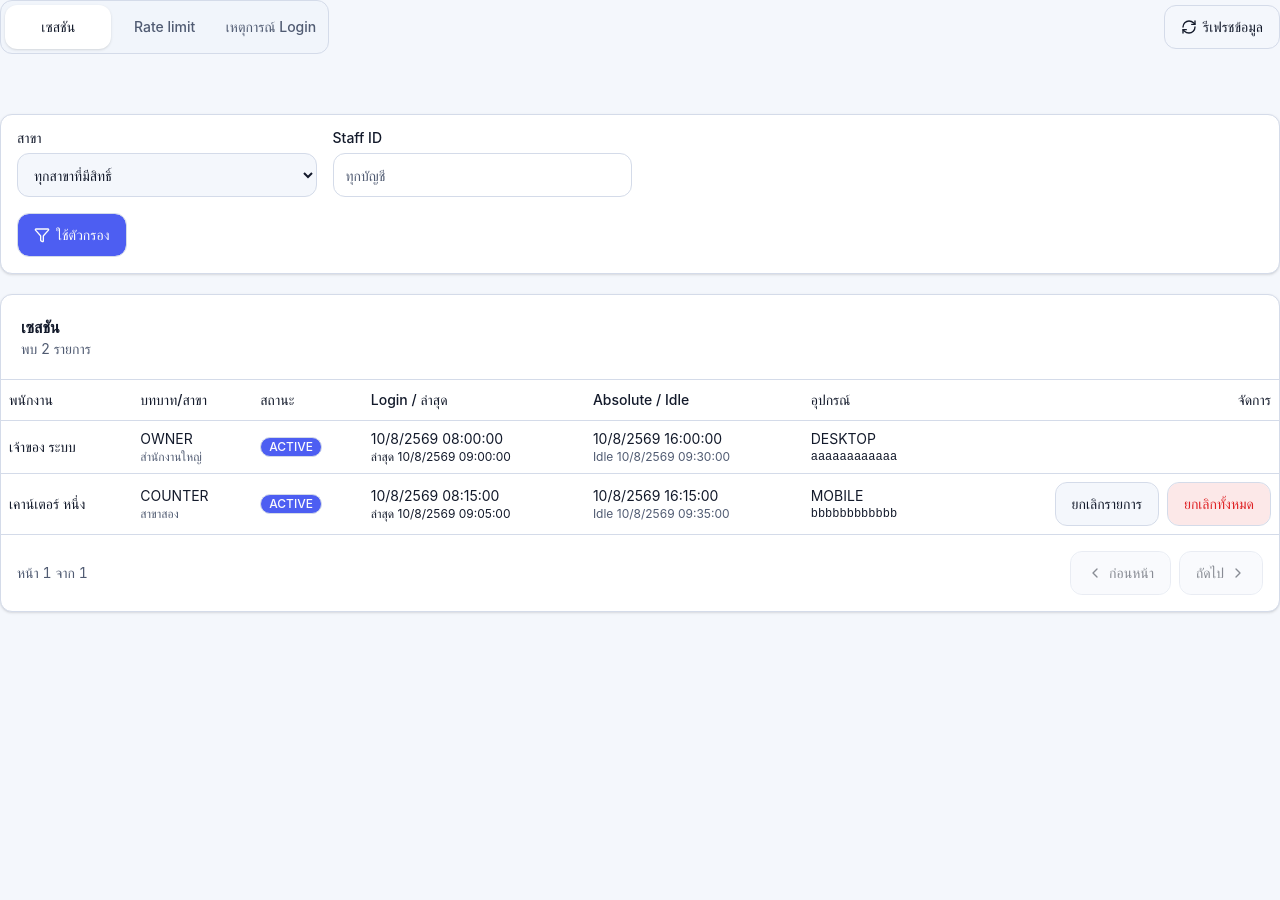
SecurityConsole › network error ใช้ข้อความกลางและไม่สะท้อน error detail
The width and height of the screenshot is (1280, 900).
Click the button with aria-label "ยกเลิกเซสชันของ เคาน์เตอร์ หนึ่ง" at (1107, 504), box [1055,482,1159,526]
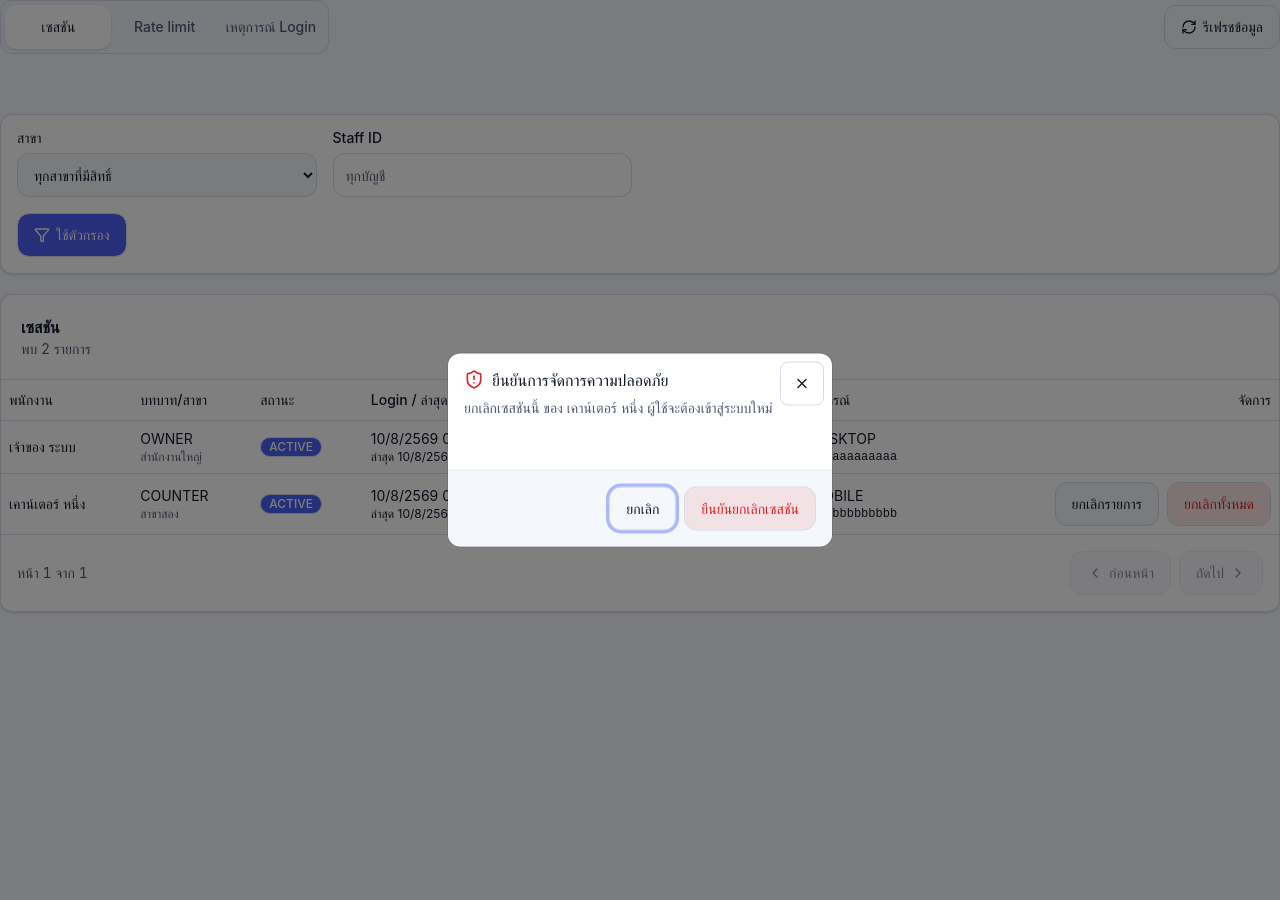
Click the button "ยืนยันยกเลิกเซสชัน" at (750, 508), box [684,486,816,530]
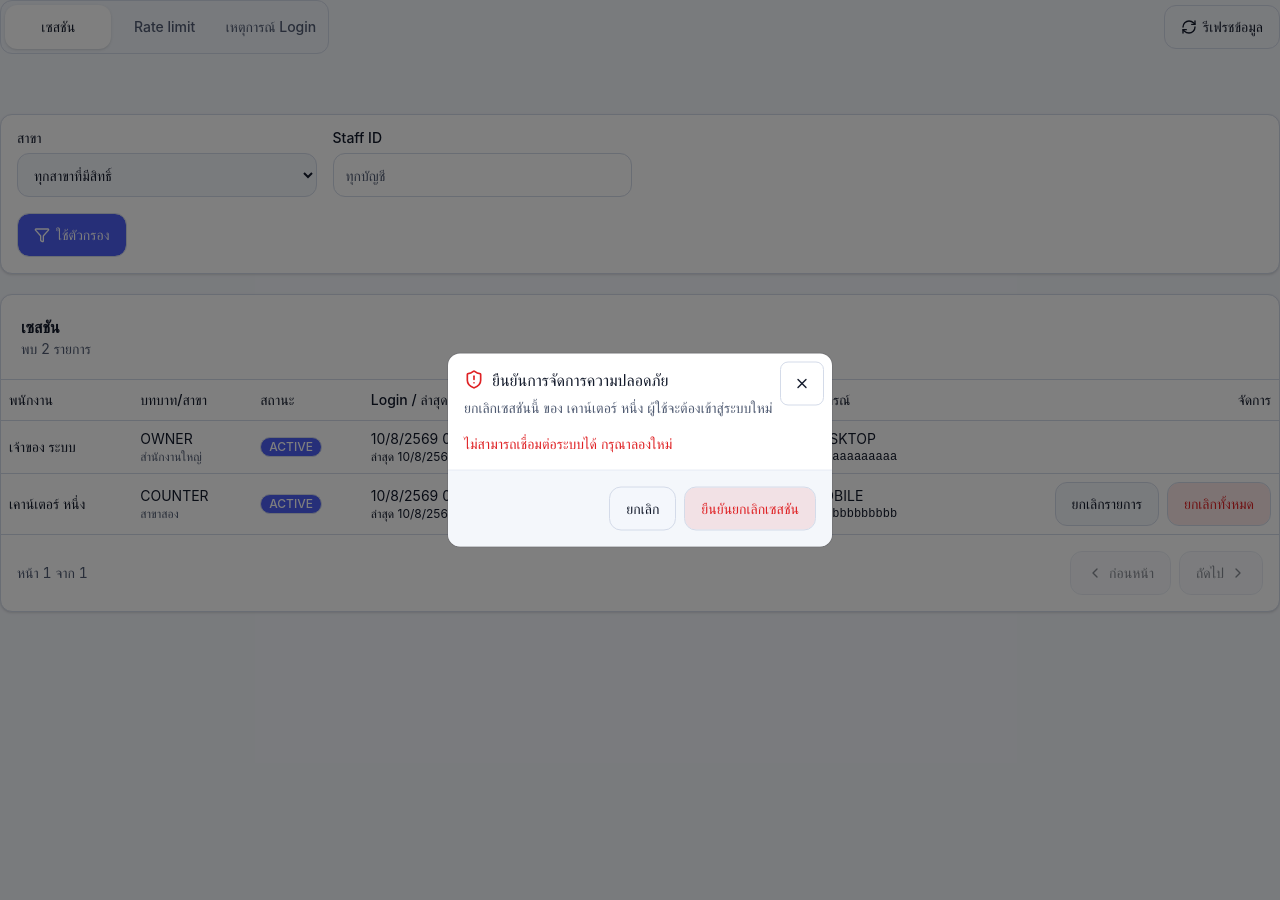
Now the dialog shows "ไม่สามารถเชื่อมต่อระบบได้ กรุณาลองใหม่", box [464,434,672,452]
